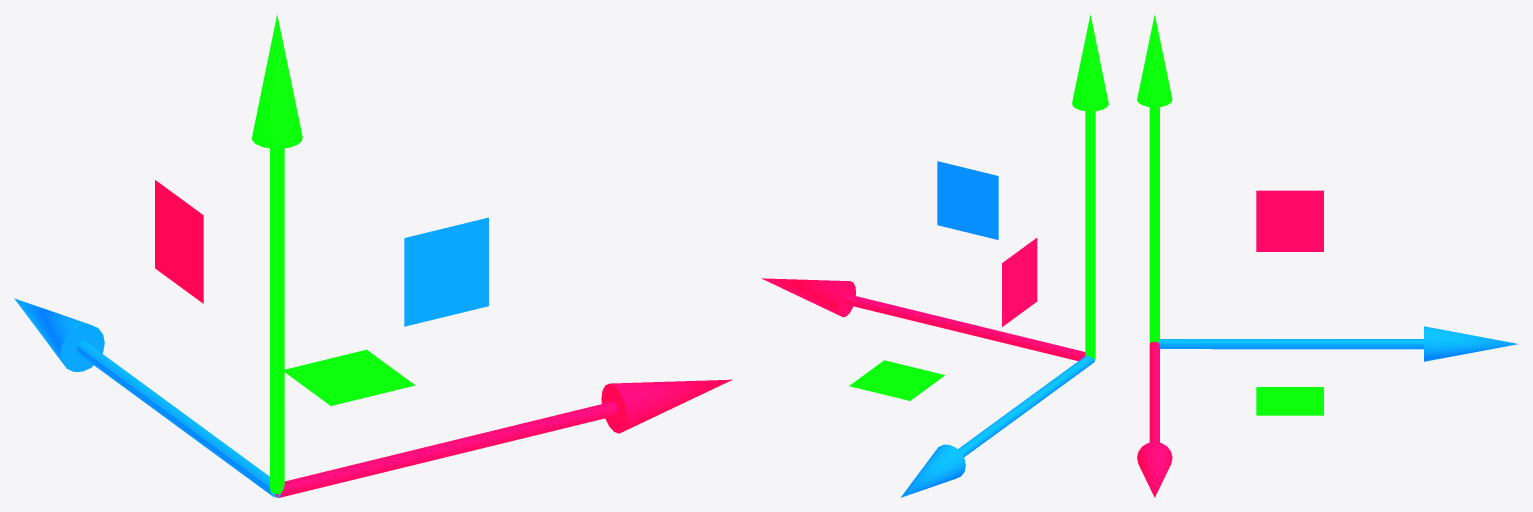
File: gizmo_translate.glb
3 views of the same model, side by side, from view 1: azimuth 30°, elevation 25°; view 2: azimuth 150°, elevation 25°; view 3: azimuth 270°, elevation 25° (orthographic). The views are drawn at different scales.
Parts seen in each view (by area): view 1: translate_y, translate_x, translate_y_plane, translate_z, translate_x_plane, translate_z_plane; view 2: translate_y, translate_x, translate_y_plane, translate_z, translate_x_plane, translate_z_plane; view 3: translate_z, translate_y, translate_x_plane, translate_x, translate_z_plane.
Part boxes in pixels (x1,y1,x2,y2): translate_y: (251,14,302,493); translate_x: (275,379,732,497); translate_y_plane: (404,217,488,326); translate_z: (14,298,280,497); translate_x_plane: (155,180,203,303); translate_z_plane: (284,349,415,405); translate_y: (1072,14,1108,359); translate_x: (761,278,1085,360); translate_y_plane: (937,161,998,239); translate_z: (900,355,1094,497); translate_x_plane: (1002,238,1037,326); translate_z_plane: (849,360,944,400); translate_z: (1158,326,1518,361); translate_y: (1137,14,1172,343); translate_x_plane: (1256,190,1323,251); translate_x: (1137,341,1172,497); translate_z_plane: (1256,387,1323,415).
Bounding box in the file's own units: 1.13 × 1.13 × 1.13.
